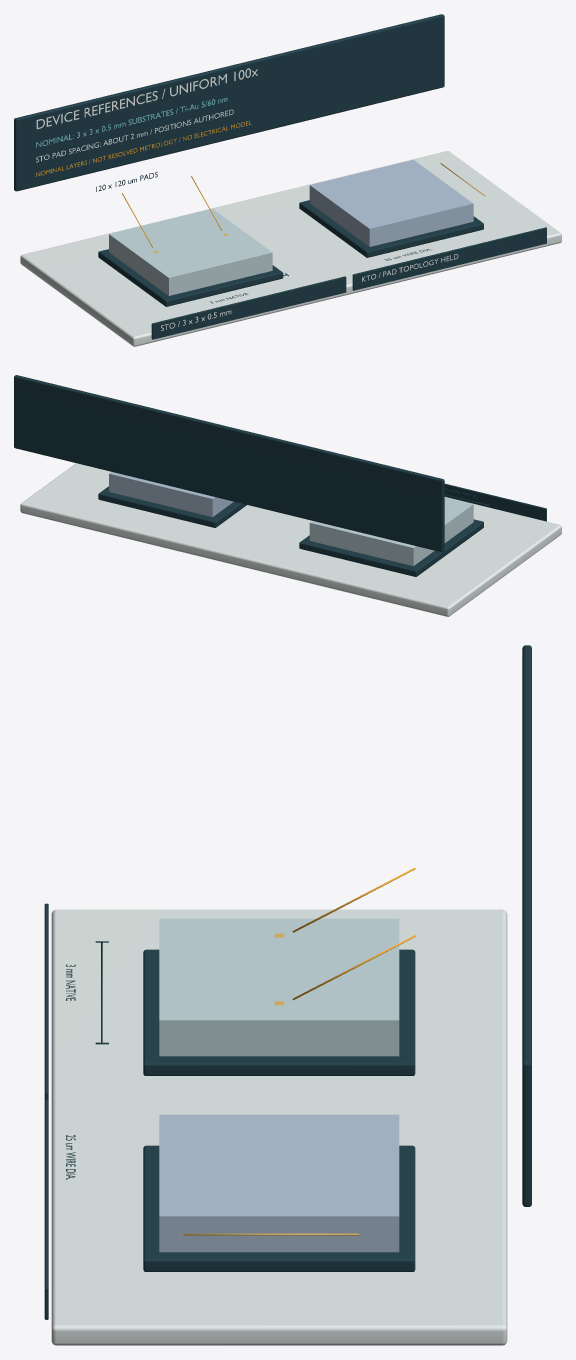
File: varactor_reference_display.glb
3 views of the same model, one above another, from view 1: azimuth 30°, elevation 25°; view 2: azimuth 150°, elevation 25°; view 3: azimuth 270°, elevation 25° (orthographic). The views are drawn at different scales.
Parts seen in each view (by area): view 1: display.title.plate, display.plinth, display.kto.substrate, display.sto.substrate, display.sto_label.plate, display.kto_label.plate, display.support.001, display.support, display.title, display.note2, display.note3, display.note1; view 2: display.title.plate, display.plinth, display.sto.substrate, display.kto.substrate, display.support, display.support.001, display.sto_label.plate; view 3: display.plinth, display.kto.substrate, display.sto.substrate, display.support, display.support.001, display.title.plate, display.kto_label.plate, display.sto_label.plate.
Part boxes in pixels (x1=…): display.title.plate: x1=14, y1=14, x2=444, y2=191; display.plinth: x1=20, y1=151, x2=561, y2=346; display.kto.substrate: x1=309, y1=159, x2=473, y2=246; display.sto.substrate: x1=109, y1=208, x2=272, y2=295; display.sto_label.plate: x1=151, y1=276, x2=346, y2=339; display.kto_label.plate: x1=352, y1=227, x2=546, y2=290; display.support.001: x1=299, y1=200, x2=483, y2=257; display.support: x1=98, y1=249, x2=283, y2=306; display.title: x1=36, y1=68, x2=257, y2=129; display.note2: x1=36, y1=109, x2=233, y2=162; display.note3: x1=36, y1=120, x2=251, y2=176; display.note1: x1=36, y1=98, x2=227, y2=147; display.title.plate: x1=14, y1=375, x2=444, y2=552; display.plinth: x1=20, y1=463, x2=561, y2=616; display.sto.substrate: x1=309, y1=497, x2=473, y2=565; display.kto.substrate: x1=109, y1=472, x2=233, y2=516; display.support: x1=299, y1=519, x2=483, y2=576; display.support.001: x1=98, y1=486, x2=246, y2=527; display.sto_label.plate: x1=444, y1=483, x2=546, y2=521; display.plinth: x1=51, y1=909, x2=507, y2=1345; display.kto.substrate: x1=159, y1=1114, x2=399, y2=1252; display.sto.substrate: x1=159, y1=918, x2=399, y2=1056; display.support: x1=143, y1=949, x2=415, y2=1075; display.support.001: x1=143, y1=1145, x2=415, y2=1271; display.title.plate: x1=522, y1=645, x2=531, y2=1206; display.kto_label.plate: x1=44, y1=1099, x2=48, y2=1319; display.sto_label.plate: x1=44, y1=903, x2=48, y2=1099.
Size of the model in its own units: 1.24 by 0.392 by 0.6105.
